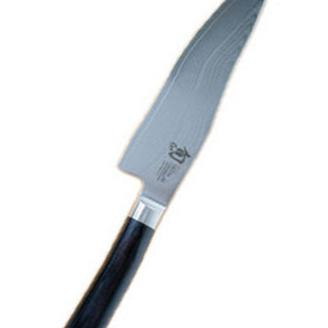knife: (65, 1, 269, 328)
